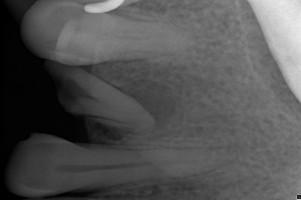Furcation Involvement: (118, 79, 176, 127)
